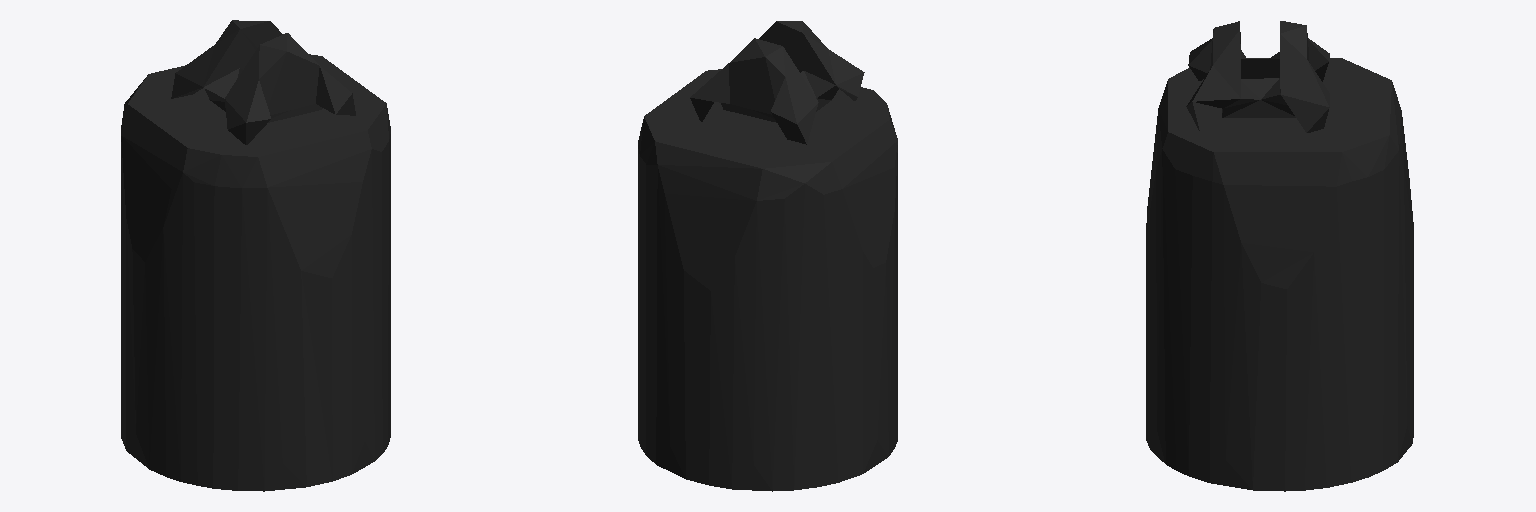
--- What the picture shows (computed from the rendered views, not written in the file) ---
The picture shows the robot from 3 angles, left to right: view 1: azimuth 30°, elevation 25°; view 2: azimuth 150°, elevation 25°; view 3: azimuth 270°, elevation 25°; orthographic projection.
Robot: shadowhand — 31 links, 30 joints (24 revolute, 6 fixed); root link base_link; default pose: all joints at 0.
Visible links, largest first — view 1: forearm; view 2: forearm; view 3: forearm.
Link boxes in pixels (x1,y1,x2,y2): forearm: [121, 20, 390, 491]; forearm: [638, 21, 897, 491]; forearm: [1146, 21, 1413, 491].
Size in the robot's own frame: 13.51 by 13.5 by 23.99 metres.
Meshes: 12 distinct files referenced, 25 mesh visuals loaded (12 binary STL).

URDF robot description (shadowhand):
<robot name="shadowhand">
  <material name="Blue">
    <color rgba="0.0 0.0 0.8 1.0" />
  </material>
  <material name="Green">
    <color rgba="0.0 0.8 0.0 1.0" />
  </material>
  <material name="Grey">
    <color rgba="0.2 0.2 0.2 1.0" />
  </material>
  <material name="LightGrey">
    <color rgba="0.6 0.6 0.6 1.0" />
  </material>
  <material name="Red">
    <color rgba="0.8 0.0 0.0 1.0" />
  </material>
  <material name="White">
    <color rgba="1.0 1.0 1.0 1.0" />
  </material>
  <link name="base_link"/>
  <joint name="base_link_forearm" type="fixed">
    <origin rpy="0.00000000 0.00000000 0.00000000"/>
    <parent link="base_link"/>
    <child link="forearm"/>
  </joint>
  <link name="forearm">
    <inertial>
      <origin rpy="0 0 0" xyz="0 0 0.09" />
      <mass value="3.0" />
      <inertia ixx="1.0" ixy="0.0" ixz="0.0" iyy="1.0" iyz="0.0" izz="1.0" />
    </inertial>
    <visual>
      <origin rpy="0 0 0" xyz="0 0 0" />
      <geometry name="shadow_forearm_geom">
        <mesh filename="meshes_simplified/forearm.stl" scale="0.1 0.1 0.1" />
      </geometry>
      <material name="Grey" />
    </visual>
    <collision>
      <origin rpy="0 0 0" xyz="0 0 0.09" />
      <geometry name="shadow_forearm_collision">
        <mesh filename="meshes_simplified/forearm.stl" scale="0.1 0.1 0.1" />
      </geometry>
    </collision>
  </link>
  <link name="wrist">
    <inertial>
      <origin rpy="0 0 0" xyz="0 0.0 0.0" />

      <mass value="0.1" />
      <inertia ixx="0.120" ixy="0.0" ixz="0.0" iyy="0.148" iyz="0.0" izz="0.0438" />
    </inertial>
    <visual>
      <origin rpy="0 0 0" xyz="0 0 0" />
      <geometry name="wrist_visual">
        <mesh filename="meshes_simplified/wrist.stl" scale="0.1 0.1 0.1" />
      </geometry>
      <material name="LightGrey" />
    </visual>
    <collision>
      <origin rpy="0 0 0" xyz="0 0 0" />
      <geometry name="wrist_collision_geom">
        <mesh filename="meshes_simplified/forearm.stl" scale="0.1 0.1 0.1" />
      </geometry>
    </collision>
  </link>
  <joint name="WRJ2" type="revolute">
    <parent link="forearm" />
    <child link="wrist" />

    <origin rpy="0 0 0" xyz="0 -0.010 0.213" />
    <axis xyz="0 1 0" />
    <limit effort="5" lower="-0.52359877559829882" upper="0.17453292519943295" velocity="1.0" />
    <dynamics damping="100.5" />
  </joint>
  <link name="palm">
    <inertial>
      <origin rpy="0 0 0" xyz="0 0 0.035" />
      <mass value="0.3" />
      <inertia ixx="0.5" ixy="0.0" ixz="0.0" iyy="0.5" iyz="0.0" izz="0.3" />
    </inertial>
    <visual>
      <origin rpy="0 0 0" xyz="0 0 0" />
      <geometry name="palm_visual">
        <mesh filename="meshes_simplified/palm.stl" scale="0.001 0.001 0.001" />
      </geometry>
      <material name="Grey" />
    </visual>
    <collision>
      <origin rpy="0 0 0" xyz="0 0 0" />
      <geometry name="palm_visual">
        <mesh filename="meshes_simplified/palm.stl" scale="0.001 0.001 0.001" />
      </geometry>
    </collision>
  </link>
  <joint name="WRJ1" type="revolute">
    <parent link="wrist" />
    <child link="palm" />
    <origin rpy="0 0 0" xyz="0 0 0.034" />
    <axis xyz="1 0 0" />
    <limit effort="5" lower="-0.78539816339744828" upper="0.6108652381980153" velocity="1.0" />
    <dynamics damping="100.5" />
  </joint>
  <link name="ffknuckle">
    <inertial>
      <origin rpy="0 0 0" xyz="0 0 0" />

      <mass value="0.008" />
      <inertia ixx="0.0" ixy="0.0" ixz="0.0" iyy="0.1" iyz="0.0" izz="0.0" />
    </inertial>
    <visual>
      <origin rpy="0 0 0" xyz="0 0 0.0005" />
      <geometry name="knuckle_visual">
        <mesh filename="meshes_simplified/knuckle.stl" scale="0.001 0.001 0.001" />
      </geometry>
      <material name="LightGrey" />
    </visual>
    <collision>
      <origin rpy="0 0 0" xyz="0 0 0.0005" />
      <geometry name="knuckle_visual">
        <mesh filename="meshes_simplified/knuckle.stl" scale="0.001 0.001 0.001" />
      </geometry>
    </collision>
  </link>
  <joint name="FFJ4" type="revolute">
    <parent link="palm" />
    <child link="ffknuckle" />

    <origin rpy="0 0 0" xyz="0.033 0 0.095" />
    <axis xyz="0 -1 0" />
    <limit effort="100" lower="-0.43633231299858238" upper="0.43633231299858238" velocity="1.0" />
    <dynamics damping="50.5" />
  </joint>
  <link name="ffproximal">
    <inertial>
      <mass value="0.014" />
      <origin xyz="0 0 0.0225" />
      <inertia ixx="0.1" ixy="0.0" ixz="0.0" iyy="0.1" iyz="0.0" izz="0.0" />
    </inertial>
    <visual>
      <origin rpy="0 0 0" xyz="0 0 0" />
      <geometry name="proximal_visual">
        <mesh filename="meshes_simplified/F3.stl" scale="0.001 0.001 0.001" />
      </geometry>
      <material name="Grey" />
    </visual>
    <collision>
      <origin rpy="0 0 0" xyz="0 0 0" />
      <geometry name="proximal_visual">
        <mesh filename="meshes_simplified/F3.stl" scale="0.001 0.001 0.001" />
      </geometry>
    </collision>
  </link>
  <joint name="FFJ3" type="revolute">
    <parent link="ffknuckle" />
    <child link="ffproximal" />
    <origin rpy="0 0 0" xyz="0 0 0" />
    <axis xyz="1 0 0" />
    <limit effort="100" lower="0" upper="1.57079632679" velocity="1.0" />
    <dynamics damping="50.5" />
  </joint>
  <link name="ffmiddle">
    <inertial>
      <origin rpy="0 0 0" xyz="0 0 0.0125" />
      <mass value="0.012" />
      <inertia ixx="0.1" ixy="0.0" ixz="0.0" iyy="0.1" iyz="0.0" izz="0.0" />
    </inertial>
    <visual>
      <origin rpy="0 0 0" xyz="0 0 0" />
      <geometry name="middle_visual">
        <mesh filename="meshes_simplified/F2.stl" scale="0.001 0.001 0.001" />
      </geometry>
      <material name="Grey" />
    </visual>
    <collision>
      <origin rpy="0 0 0" xyz="0 0 0" />
      <geometry name="middle_visual">
        <mesh filename="meshes_simplified/F2.stl" scale="0.001 0.001 0.001" />
      </geometry>
    </collision>
  </link>
  <joint name="FFJ2" type="revolute">
    <parent link="ffproximal" />
    <child link="ffmiddle" />
    <origin rpy="0 0 0" xyz="0 0 0.045" />
    <axis xyz="1 0 0" />
    <limit effort="100" lower="0" upper="1.57079632679" velocity="1.0" />
    <dynamics damping="50.5" />
  </joint>
  <link name="ffdistal">
    <inertial>
      <mass value="0.010" />
      <origin xyz="0 0 0.013" />
      <inertia ixx="0.1" ixy="0.0" ixz="0.0" iyy="0.1" iyz="0.0" izz="0.0" />
    </inertial>
    <visual>
      <origin rpy="0 0 0" xyz="0 0 0" />
      <geometry name="distal_visual">
        <mesh filename="meshes_simplified/distal_ellipsoid.stl" scale="0.001 0.001 0.001" />
      </geometry>
      <material name="Grey" />
    </visual>

    <collision>
      <origin rpy="0 0 0" xyz="0 0 0" />
      <geometry name="distal_collision_geom">
        <mesh filename="meshes_simplified/distal_ellipsoid.stl" scale="0.001 0.001 0.001" />
      </geometry>
    </collision>
  </link>
  <joint name="FFJ1" type="revolute">
    <parent link="ffmiddle" />
    <child link="ffdistal" />
    <origin rpy="0 0 0" xyz="0 0 0.025" />
    <axis xyz="1 0 0" />
    <limit effort="100" lower="0" upper="1.57079632679" velocity="1.0" />
    <dynamics damping="50.5" />
  </joint>
  <link name="fftip">
    <inertial>
      <mass value="0.001" />
      <inertia ixx="0.0" ixy="0.0" ixz="0.0" iyy="0.0" iyz="0.0" izz="0.0" />
    </inertial>
  </link>
  <joint name="FFtip" type="fixed">
    <parent link="ffdistal" />
    <child link="fftip" />
    <origin rpy="0 0 0" xyz="0 0 0.026" />
  </joint>
  <link name="mfknuckle">
    <inertial>
      <origin rpy="0 0 0" xyz="0 0 0" />

      <mass value="0.008" />
      <inertia ixx="0.0" ixy="0.0" ixz="0.0" iyy="0.1" iyz="0.0" izz="0.0" />
    </inertial>
    <visual>
      <origin rpy="0 0 0" xyz="0 0 0.0005" />
      <geometry name="knuckle_visual">
        <mesh filename="meshes_simplified/knuckle.stl" scale="0.001 0.001 0.001" />
      </geometry>
      <material name="LightGrey" />
    </visual>
    <collision>
      <origin rpy="0 0 0" xyz="0 0 0.0005" />
      <geometry name="knuckle_visual">
        <mesh filename="meshes_simplified/knuckle.stl" scale="0.001 0.001 0.001" />
      </geometry>
    </collision>
  </link>
  <joint name="MFJ4" type="revolute">
    <parent link="palm" />
    <child link="mfknuckle" />

    <origin rpy="0 0 0" xyz="0.011 0 0.099" />
    <axis xyz="0 -1 0" />
    <limit effort="100" lower="-0.43633231299858238" upper="0.43633231299858238" velocity="1.0" />
    <dynamics damping="50.5" />
  </joint>
  <link name="mfproximal">
    <inertial>
      <mass value="0.014" />
      <origin xyz="0 0 0.0225" />
      <inertia ixx="0.1" ixy="0.0" ixz="0.0" iyy="0.1" iyz="0.0" izz="0.0" />
    </inertial>
    <visual>
      <origin rpy="0 0 0" xyz="0 0 0" />
      <geometry name="proximal_visual">
        <mesh filename="meshes_simplified/F3.stl" scale="0.001 0.001 0.001" />
      </geometry>
      <material name="Grey" />
    </visual>
    <collision>
      <origin rpy="0 0 0" xyz="0 0 0" />
      <geometry name="proximal_visual">
        <mesh filename="meshes_simplified/F3.stl" scale="0.001 0.001 0.001" />
      </geometry>
    </collision>
  </link>
  <joint name="MFJ3" type="revolute">
    <parent link="mfknuckle" />
    <child link="mfproximal" />
    <origin rpy="0 0 0" xyz="0 0 0" />
    <axis xyz="1 0 0" />
    <limit effort="100" lower="0" upper="1.57079632679" velocity="1.0" />
    <dynamics damping="50.5" />
  </joint>
  <link name="mfmiddle">
    <inertial>
      <origin rpy="0 0 0" xyz="0 0 0.0125" />
      <mass value="0.012" />
      <inertia ixx="0.1" ixy="0.0" ixz="0.0" iyy="0.1" iyz="0.0" izz="0.0" />
    </inertial>
    <visual>
      <origin rpy="0 0 0" xyz="0 0 0" />
      <geometry name="middle_visual">
        <mesh filename="meshes_simplified/F2.stl" scale="0.001 0.001 0.001" />
      </geometry>
      <material name="Grey" />
    </visual>
    <collision>
      <origin rpy="0 0 0" xyz="0 0 0" />
      <geometry name="middle_visual">
        <mesh filename="meshes_simplified/F2.stl" scale="0.001 0.001 0.001" />
      </geometry>
    </collision>
  </link>
  <joint name="MFJ2" type="revolute">
    <parent link="mfproximal" />
    <child link="mfmiddle" />
    <origin rpy="0 0 0" xyz="0 0 0.045" />
    <axis xyz="1 0 0" />
    <limit effort="100" lower="0" upper="1.57079632679" velocity="1.0" />
    <dynamics damping="50.5" />
  </joint>
  <link name="mfdistal">
    <inertial>
      <mass value="0.010" />
      <origin xyz="0 0 0.013" />
      <inertia ixx="0.1" ixy="0.0" ixz="0.0" iyy="0.1" iyz="0.0" izz="0.0" />
    </inertial>
    <visual>
      <origin rpy="0 0 0" xyz="0 0 0" />
      <geometry name="distal_visual">
        <mesh filename="meshes_simplified/F1.stl" scale="0.001 0.001 0.001" />
      </geometry>
      <material name="Grey" />
    </visual>

    <collision>
      <origin rpy="0 0 0" xyz="0 0 0" />
      <geometry name="distal_collision_geom">
        <mesh filename="meshes_simplified/F1.stl" scale="0.001 0.001 0.001" />
      </geometry>
    </collision>
  </link>
  <joint name="MFJ1" type="revolute">
    <parent link="mfmiddle" />
    <child link="mfdistal" />
    <origin rpy="0 0 0" xyz="0 0 0.025" />
    <axis xyz="1 0 0" />
    <limit effort="100" lower="0" upper="1.57079632679" velocity="1.0" />
    <dynamics damping="50.5" />
  </joint>
  <link name="mftip">
    <inertial>
      <mass value="0.001" />
      <inertia ixx="0.0" ixy="0.0" ixz="0.0" iyy="0.0" iyz="0.0" izz="0.0" />
    </inertial>
  </link>
  <joint name="MFtip" type="fixed">
    <parent link="mfdistal" />
    <child link="mftip" />
    <origin rpy="0 0 0" xyz="0 0 0.026" />
  </joint>
  <link name="rfknuckle">
    <inertial>
      <origin rpy="0 0 0" xyz="0 0 0" />

      <mass value="0.008" />
      <inertia ixx="0.0" ixy="0.0" ixz="0.0" iyy="0.1" iyz="0.0" izz="0.0" />
    </inertial>
    <visual>
      <origin rpy="0 0 0" xyz="0 0 0.0005" />
      <geometry name="knuckle_visual">
        <mesh filename="meshes_simplified/knuckle.stl" scale="0.001 0.001 0.001" />
      </geometry>
      <material name="LightGrey" />
    </visual>
    <collision>
      <origin rpy="0 0 0" xyz="0 0 0.0005" />
      <geometry name="knuckle_visual">
        <mesh filename="meshes_simplified/knuckle.stl" scale="0.001 0.001 0.001" />
      </geometry>
    </collision>
  </link>
  <joint name="RFJ4" type="revolute">
    <parent link="palm" />
    <child link="rfknuckle" />

    <origin rpy="0 0 0" xyz="-0.011 0 0.095" />
    <axis xyz="0 1 0" />
    <limit effort="100" lower="-0.43633231299858238" upper="0.43633231299858238" velocity="1.0" />
    <dynamics damping="50.5" />
  </joint>
  <link name="rfproximal">
    <inertial>
      <mass value="0.014" />
      <origin xyz="0 0 0.0225" />
      <inertia ixx="0.1" ixy="0.0" ixz="0.0" iyy="0.1" iyz="0.0" izz="0.0" />
    </inertial>
    <visual>
      <origin rpy="0 0 0" xyz="0 0 0" />
      <geometry name="proximal_visual">
        <mesh filename="meshes_simplified/F3.stl" scale="0.001 0.001 0.001" />
      </geometry>
      <material name="Grey" />
    </visual>
    <collision>
      <origin rpy="0 0 0" xyz="0 0 0" />
      <geometry name="proximal_visual">
        <mesh filename="meshes_simplified/F3.stl" scale="0.001 0.001 0.001" />
      </geometry>
    </collision>
  </link>
  <joint name="RFJ3" type="revolute">
    <parent link="rfknuckle" />
    <child link="rfproximal" />
    <origin rpy="0 0 0" xyz="0 0 0" />
    <axis xyz="1 0 0" />
    <limit effort="100" lower="0" upper="1.57079632679" velocity="1.0" />
    <dynamics damping="50.5" />
  </joint>
  <link name="rfmiddle">
    <inertial>
      <origin rpy="0 0 0" xyz="0 0 0.0125" />
      <mass value="0.012" />
      <inertia ixx="0.1" ixy="0.0" ixz="0.0" iyy="0.1" iyz="0.0" izz="0.0" />
    </inertial>
    <visual>
      <origin rpy="0 0 0" xyz="0 0 0" />
      <geometry name="middle_visual">
        <mesh filename="meshes_simplified/F2.stl" scale="0.001 0.001 0.001" />
      </geometry>
      <material name="Grey" />
    </visual>
    <collision>
      <origin rpy="0 0 0" xyz="0 0 0" />
      <geometry name="middle_visual">
        <mesh filename="meshes_simplified/F2.stl" scale="0.001 0.001 0.001" />
      </geometry>
    </collision>
  </link>
  <joint name="RFJ2" type="revolute">
    <parent link="rfproximal" />
    <child link="rfmiddle" />
    <origin rpy="0 0 0" xyz="0 0 0.045" />
    <axis xyz="1 0 0" />
    <limit effort="100" lower="0" upper="1.57079632679" velocity="1.0" />
    <dynamics damping="50.5" />
  </joint>
  <link name="rfdistal">
    <inertial>
      <mass value="0.010" />
      <origin xyz="0 0 0.013" />
      <inertia ixx="0.1" ixy="0.0" ixz="0.0" iyy="0.1" iyz="0.0" izz="0.0" />
    </inertial>
    <visual>
      <origin rpy="0 0 0" xyz="0 0 0" />
      <geometry name="distal_visual">
        <mesh filename="meshes_simplified/distal_ellipsoid.stl" scale="0.001 0.001 0.001" />
      </geometry>
      <material name="Grey" />
    </visual>

    <collision>
      <origin rpy="0 0 0" xyz="0 0 0" />
      <geometry name="distal_collision_geom">
        <mesh filename="meshes_simplified/distal_ellipsoid.stl" scale="0.001 0.001 0.001" />
      </geometry>
    </collision>
  </link>
  <joint name="RFJ1" type="revolute">
    <parent link="rfmiddle" />
    <child link="rfdistal" />
    <origin rpy="0 0 0" xyz="0 0 0.025" />
    <axis xyz="1 0 0" />
    <limit effort="100" lower="0" upper="1.57079632679" velocity="1.0" />
    <dynamics damping="50.5" />
  </joint>
  <link name="rftip">
    <inertial>
      <mass value="0.001" />
      <inertia ixx="0.0" ixy="0.0" ixz="0.0" iyy="0.0" iyz="0.0" izz="0.0" />
    </inertial>
  </link>
  <joint name="RFtip" type="fixed">
    <parent link="rfdistal" />
    <child link="rftip" />
    <origin rpy="0 0 0" xyz="0 0 0.026" />
  </joint>
  <link name="lfmetacarpal">
    <inertial>
      <origin rpy="0 0 0" xyz="0 0 0.04" />
      <mass value="0.075" />
      <inertia ixx="0.1" ixy="0.0" ixz="0.0" iyy="0.1" iyz="0.0" izz="0.1" />
    </inertial>
    <visual>
      <origin rpy="0 0 0" xyz="0 0 0" />
      <geometry name="lfmetacarpal_visual">
        <mesh filename="meshes_simplified/lfmetacarpal.stl" scale="0.001 0.001 0.001" />
      </geometry>
      <material name="Grey" />
    </visual>
    <collision>
      <origin rpy="0 0 0" xyz="0 0 0" />
      <geometry name="lfmetacarpal_visual">
        <mesh filename="meshes_simplified/lfmetacarpal.stl" scale="0.001 0.001 0.001" />
      </geometry>
    </collision>
  </link>
  <joint name="LFJ5" type="revolute">
    <parent link="palm" />
    <child link="lfmetacarpal" />
    <origin rpy="0 0 0" xyz="-0.033 0 0.02071" />
    <axis xyz="0.573576436 0 0.819152044" />
    <limit effort="100" lower="0" upper="0.69813170079773179" velocity="1.0" />
    <dynamics damping="50.5" />
  </joint>
  <link name="lfknuckle">
    <inertial>
      <origin rpy="0 0 0" xyz="0 0 0.06579" />
      <mass value="0.008" />
      <inertia ixx="0.1" ixy="0.0" ixz="0.0" iyy="0.1" iyz="0.0" izz="0.1" />
    </inertial>
    <visual>
      <origin rpy="0 0 0" xyz="0 0 0" />
      <geometry name="knuckle_visual">
        <mesh filename="meshes_simplified/knuckle.stl" scale="0.001 0.001 0.001" />
      </geometry>
      <material name="LightGrey" />
    </visual>
    <collision>
      <origin rpy="0 0 0" xyz="0 0 0" />
      <geometry name="knuckle_visual">
        <mesh filename="meshes_simplified/knuckle.stl" scale="0.001 0.001 0.001" />
      </geometry>
    </collision>
  </link>
  <joint name="LFJ4" type="revolute">
    <parent link="lfmetacarpal" />
    <child link="lfknuckle" />
    <origin rpy="0 0 0" xyz="0 0 0.06579" />
    <axis xyz="0 1 0" />
    <limit effort="100" lower="-0.43633231299858238" upper="0.43633231299858238" velocity="1.0" />
    <dynamics damping="50.5" />
  </joint>
  <link name="lfproximal">
    <inertial>
      <mass value="0.014" />
      <origin xyz="0 0 0.0225" />
      <inertia ixx="0.1" ixy="0.0" ixz="0.0" iyy="0.1" iyz="0.0" izz="0.0" />
    </inertial>
    <visual>
      <origin rpy="0 0 0" xyz="0 0 0" />
      <geometry name="proximal_visual">
        <mesh filename="meshes_simplified/F3.stl" scale="0.001 0.001 0.001" />
      </geometry>
      <material name="Grey" />
    </visual>
    <collision>
      <origin rpy="0 0 0" xyz="0 0 0" />
      <geometry name="proximal_visual">
        <mesh filename="meshes_simplified/F3.stl" scale="0.001 0.001 0.001" />
      </geometry>
    </collision>
  </link>
  <joint name="LFJ3" type="revolute">
    <parent link="lfknuckle" />
    <child link="lfproximal" />
    <origin rpy="0 0 0" xyz="0 0 0" />
    <axis xyz="1 0 0" />
    <limit effort="100" lower="0" upper="1.57079632679" velocity="1.0" />
    <dynamics damping="50.5" />
  </joint>
  <link name="lfmiddle">
    <inertial>
      <origin rpy="0 0 0" xyz="0 0 0.0125" />
      <mass value="0.012" />
      <inertia ixx="0.1" ixy="0.0" ixz="0.0" iyy="0.1" iyz="0.0" izz="0.0" />
    </inertial>
    <visual>
      <origin rpy="0 0 0" xyz="0 0 0" />
      <geometry name="middle_visual">
        <mesh filename="meshes_simplified/F2.stl" scale="0.001 0.001 0.001" />
      </geometry>
      <material name="Grey" />
    </visual>
    <collision>
      <origin rpy="0 0 0" xyz="0 0 0" />
      <geometry name="middle_visual">
        <mesh filename="meshes_simplified/F2.stl" scale="0.001 0.001 0.001" />
      </geometry>
    </collision>
  </link>
  <joint name="LFJ2" type="revolute">
    <parent link="lfproximal" />
    <child link="lfmiddle" />
    <origin rpy="0 0 0" xyz="0 0 0.045" />
    <axis xyz="1 0 0" />
    <limit effort="100" lower="0" upper="1.57079632679" velocity="1.0" />
    <dynamics damping="50.5" />
  </joint>
  <link name="lfdistal">
    <inertial>
      <mass value="0.010" />
      <origin xyz="0 0 0.013" />
      <inertia ixx="0.1" ixy="0.0" ixz="0.0" iyy="0.1" iyz="0.0" izz="0.0" />
    </inertial>
    <visual>
      <origin rpy="0 0 0" xyz="0 0 0" />
      <geometry name="distal_visual">
        <mesh filename="meshes_simplified/F1.stl" scale="0.001 0.001 0.001" />
      </geometry>
      <material name="Grey" />
    </visual>

    <collision>
      <origin rpy="0 0 0" xyz="0 0 0" />
      <geometry name="distal_collision_geom">
        <mesh filename="meshes_simplified/F1.stl" scale="0.001 0.001 0.001" />
      </geometry>
    </collision>
  </link>
  <joint name="LFJ1" type="revolute">
    <parent link="lfmiddle" />
    <child link="lfdistal" />
    <origin rpy="0 0 0" xyz="0 0 0.025" />
    <axis xyz="1 0 0" />
    <limit effort="100" lower="0" upper="1.57079632679" velocity="1.0" />
    <dynamics damping="50.5" />
  </joint>
  <link name="lftip">
    <inertial>
      <mass value="0.001" />
      <inertia ixx="0.0" ixy="0.0" ixz="0.0" iyy="0.0" iyz="0.0" izz="0.0" />
    </inertial>
  </link>
  <joint name="LFtip" type="fixed">
    <parent link="lfdistal" />
    <child link="lftip" />
    <origin rpy="0 0 0" xyz="0 0 0.026" />
  </joint>
  <link name="thbase">
    <inertial>
      <mass value="0.010" />
      <origin rpy="0 0 0" xyz="0 0 0" />
      <inertia ixx="0.0" ixy="0.0" ixz="0.0" iyy="0.0" iyz="0.0" izz="0.1" />
    </inertial>
    <visual>
      <origin rpy="0 0 0" xyz="0 0 0" />
      <geometry name="thbase_visual">
        <mesh filename="meshes_simplified/box.stl" scale="0.001 0.001 0.001" />
      </geometry>
      <material name="shadow_thbase_material">
        <color rgba="0.5 0.5 0.5 1.0" />
      </material>
    </visual>
    <collision>
      <origin rpy="0 0 0 " xyz="0 0 0" />
      <geometry name="thbase_collision_geom">
        <mesh filename="meshes_simplified/box.stl" scale="0.001 0.001 0.001" />
      </geometry>
    </collision>
  </link>
  <joint name="THJ5" type="revolute">
    <parent link="palm" />
    <child link="thbase" />
    <origin rpy="0 0.785398163397 0" xyz="0.034 -0.0085 0.029" />
    <axis xyz="0 0 -1.0" />
    <limit effort="100" lower="-1.047" upper="1.047" velocity="1.0" />
    <dynamics damping="50.5" />
  </joint>
  <link name="thproximal">
    <inertial>
      <mass value="0.016" />
      <origin rpy="0 0 0" xyz="0 0 0.019" />
      <inertia ixx="0.1" ixy="0.0" ixz="0.0" iyy="0.1" iyz="0.0" izz="0.1" />
    </inertial>
    <visual>
      <origin rpy="0 0 0" xyz="0 0 0" />
      <geometry name="thproximal_visual">
        <mesh filename="meshes_simplified/TH3_z.stl" scale="0.001 0.001 0.001" />
      </geometry>
      <material name="shadow_thproximal_material">
        <color rgba="0.2 0.2 0.2 1.0" />
      </material>
    </visual>
    <collision>
      <origin rpy="0 0 0" xyz="0 0 0" />
      <geometry name="thproximal_visual">
        <mesh filename="meshes_simplified/TH3_z.stl" scale="0.001 0.001 0.001" />
      </geometry>
    </collision>
  </link>
  <joint name="THJ4" type="revolute">
    <parent link="thbase" />
    <child link="thproximal" />
    <origin rpy="0 0 0" xyz="0 0 0" />
    <axis xyz="1.0 0 0" />
    <limit effort="100" lower="0" upper="1.309" velocity="1.0" />
    <dynamics damping="50.5" />
  </joint>
  <link name="thhub">
    <inertial>
      <mass value="0.002" />
      <origin rpy="0 0 0" xyz="0 0 0" />
      <inertia ixx="0.1" ixy="0.0" ixz="0.0" iyy="0.1" iyz="0.0" izz="0.1" />
    </inertial>
    <visual>
      <origin rpy="0 0 0" xyz="0 0 0" />
      <geometry name="thhub_visual">
        <mesh filename="meshes_simplified/box.stl" scale="0.001 0.001 0.001" />
      </geometry>
      <material name="shadow_thhub_material">
        <color rgba="0.7 0.7 0.7 1.0" />
      </material>
    </visual>
    <collision>
      <origin rpy="0 0 0" xyz="0 0 0" />
      <geometry name="thproximal_visual">
        <mesh filename="meshes_simplified/TH3_z.stl" scale="0.001 0.001 0.001" />
      </geometry>
    </collision>
  </link>
  <joint name="THJ3" type="revolute">
    <parent link="thproximal" />
    <child link="thhub" />
    <origin rpy="0 0 0" xyz="0 0 0.038" />
    <axis xyz="1 0 0" />
    <limit effort="100" lower="-0.2618" upper="0.2618" velocity="1.0" />
    <dynamics damping="50.5" />
  </joint>
  <link name="thmiddle">
    <inertial>
      <mass value="0.016" />
      <origin rpy="0 0 0" xyz="0 0 0.016" />
      <inertia ixx="0.1" ixy="0.0" ixz="0.0" iyy="0.1" iyz="0.0" izz="0.1" />
    </inertial>
    <visual>
      <origin rpy="0 0 0" xyz="0 0 0" />
      <geometry name="thmiddle_visual">
        <mesh filename="meshes_simplified/TH2_z.stl" scale="0.001 0.001 0.001" />
      </geometry>
      <material name="shadow_thmiddle_material">
        <color rgba="0.2 0.2 0.2 1.0" />
      </material>
    </visual>
    <collision>
      <origin rpy="0 0 0" xyz="0 0 0" />
      <geometry name="thproximal_visual">
        <mesh filename="meshes_simplified/TH3_z.stl" scale="0.001 0.001 0.001" />
      </geometry>
    </collision>
  </link>
  <joint name="THJ2" type="revolute">
    <parent link="thhub" />
    <child link="thmiddle" />
    <origin rpy="0 0 0" xyz="0 0 0" />
    <axis xyz="0 -1 0" />
    <limit effort="100" lower="-0.5237" upper="0.5237" velocity="1.0" />
    <dynamics damping="50.5" />
  </joint>
  <link name="thdistal">
    <inertial>
      <mass value="0.016" />
      <origin rpy="0 0 0" xyz="0 0 0.01375" />
      <inertia ixx="0.1" ixy="0.0" ixz="0.0" iyy="0.1" iyz="0.0" izz="0.1" />
    </inertial>
    <visual>
      <origin rpy="0 0 0" xyz="0 0.002 0.0025" />
      <geometry name="thdistal_visual">
        <mesh filename="meshes_simplified/distal_ellipsoid.stl" scale="0.001 0.001 0.001" />
      </geometry>
      <material name="shadow_thmiddle_material">
        <color rgba="0.2 0.2 0.2 1.0" />
      </material>
    </visual>
    <collision>
      <origin rpy="0 0 0 " xyz="0 0.002 0.0025" />
      <geometry name="thmiddle_collision_geom">
        <mesh filename="meshes_simplified/distal_ellipsoid.stl" scale="0.001 0.001 0.001" />
      </geometry>
    </collision>
  </link>
  <joint name="THJ1" type="revolute">
    <parent link="thmiddle" />
    <child link="thdistal" />
    <origin rpy="0 0 -1.570796327" xyz="0 0 0.032" />
    <axis xyz="1 0 0" />
    <limit effort="100" lower="0" upper="1.571" velocity="1.0" />
    <dynamics damping="50.5" />
  </joint>
  <link name="thtip">
    <inertial>
      <mass value="0.001" />
      <inertia ixx="0.0" ixy="0.0" ixz="0.0" iyy="0.0" iyz="0.0" izz="0.0" />
    </inertial>
  </link>
  <joint name="thtip" type="fixed">
    <parent link="thdistal" />
    <child link="thtip" />
    <origin rpy="0 0 0" xyz="0 0 0.0275" />
  </joint>
  </robot>
